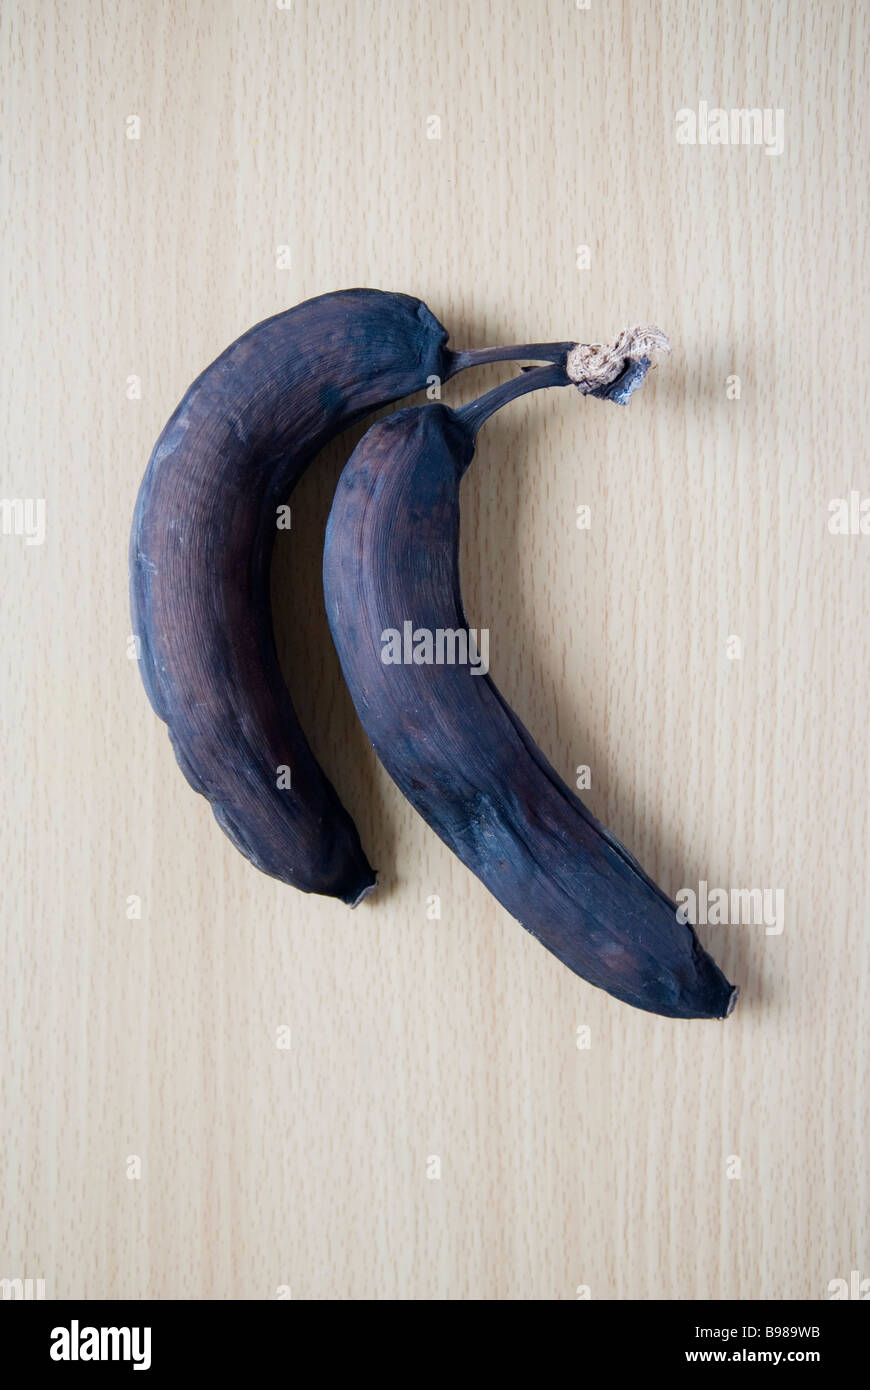looks_defective: (100, 220, 760, 1229)
